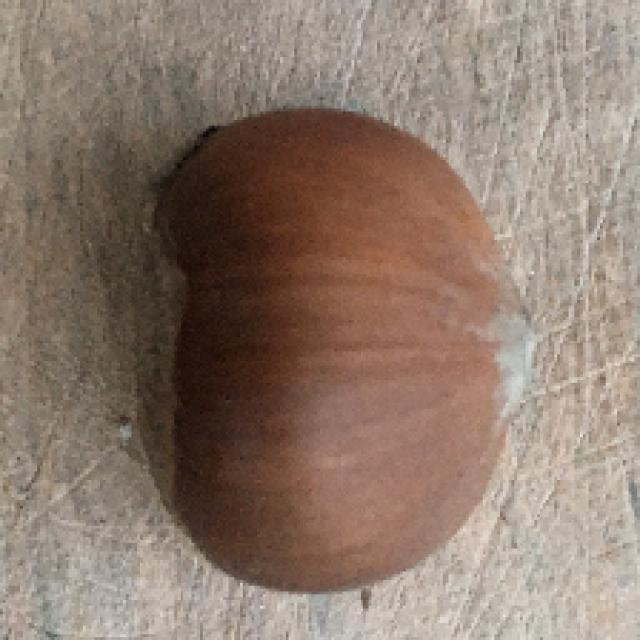qualityHazelnut: (127, 99, 544, 596)
